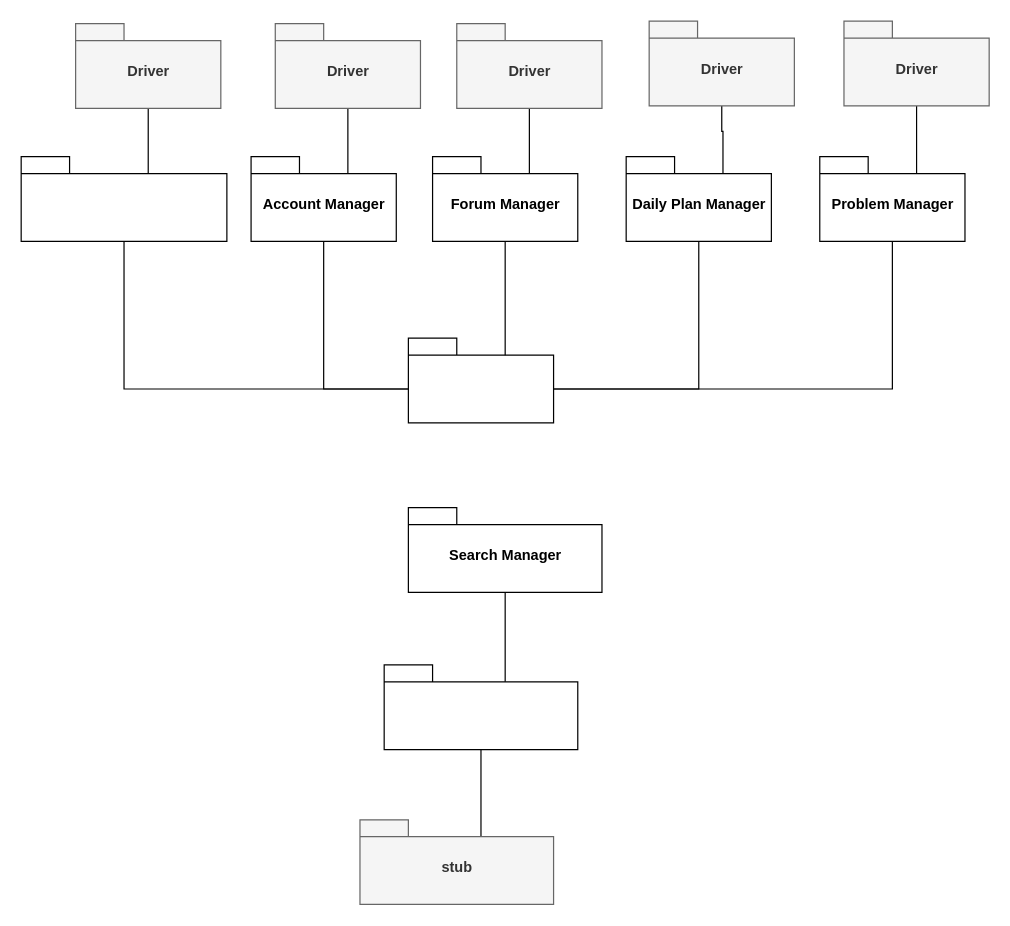
Image size: 1010x926. Some labels were removed from this diagram. Each missing label, with the centre of its shape:
"Data Manager" goes at [480,380].
"Geospatial Data Manager" goes at [480,707].
"Production Report Manager" goes at [123,198].
